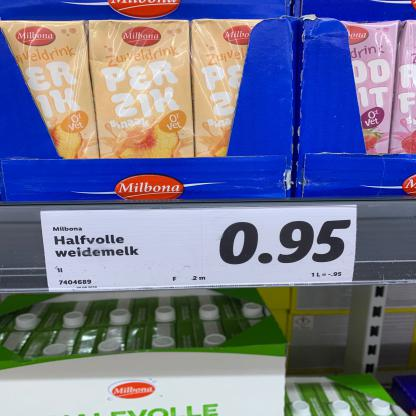prtg: (41, 207, 358, 293)
